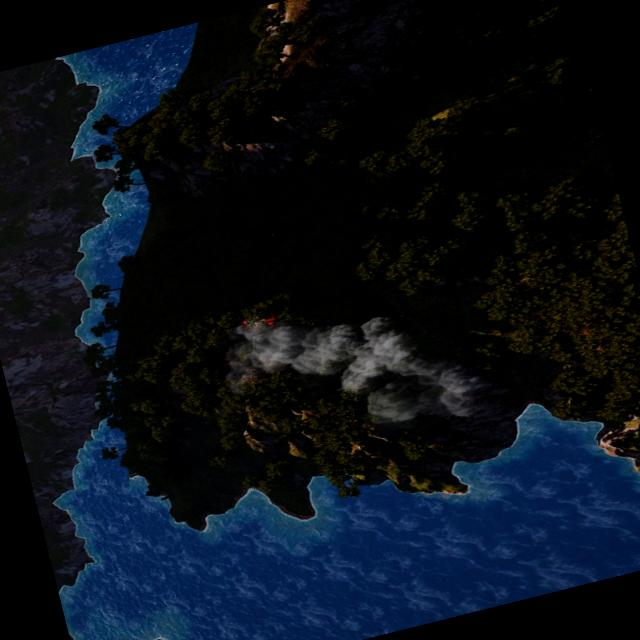fire: (239, 311, 277, 333)
smoke: (217, 266, 498, 470)
